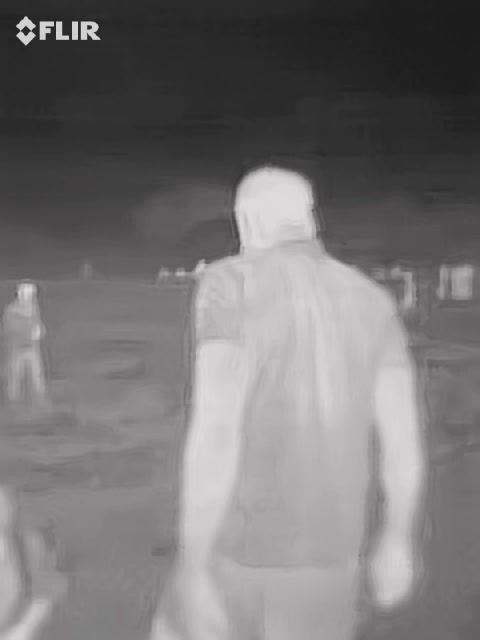head: (230, 165, 329, 255)
